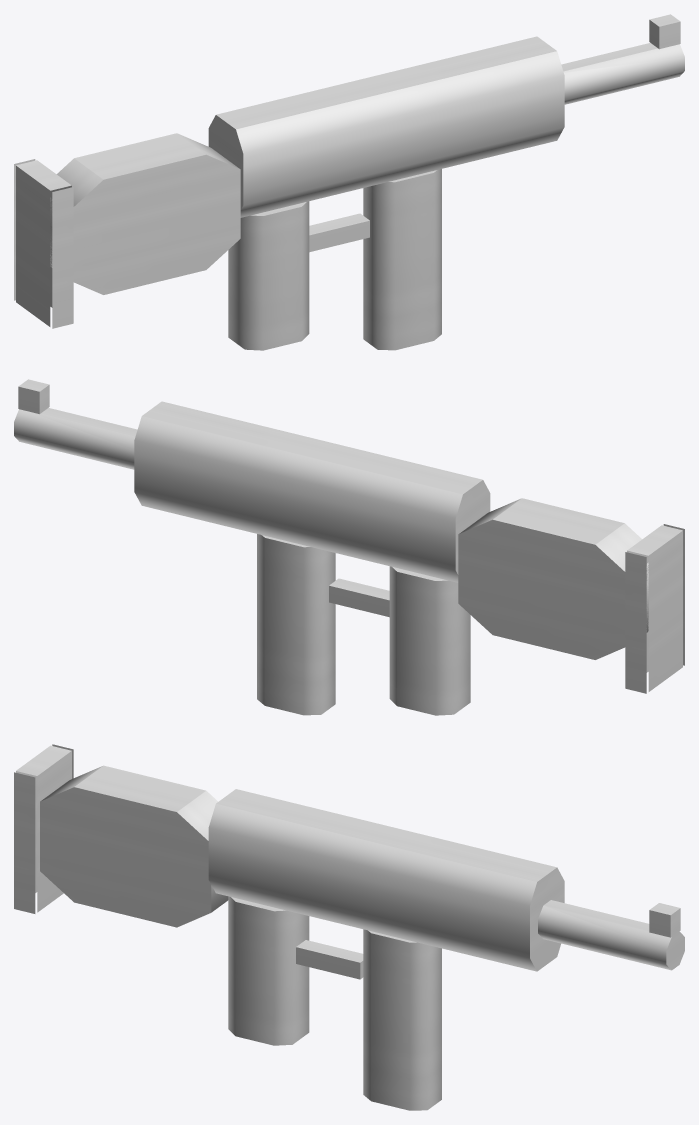
Rendered from smg.obj.
3 views of the same model, one above another, from view 1: azimuth 30°, elevation 25°; view 2: azimuth 150°, elevation 25°; view 3: azimuth 330°, elevation 25° (orthographic).
Parts seen in each view (by area): view 1: receiver, stock_or_grip, magazine_or_foregrip, grip_or_magazine, butt_or_trigger, barrel_muzzle, trigger_bridge, front_sight; view 2: receiver, stock_or_grip, magazine_or_foregrip, grip_or_magazine, butt_or_trigger, barrel_muzzle, trigger_bridge, front_sight; view 3: receiver, stock_or_grip, magazine_or_foregrip, grip_or_magazine, butt_or_trigger, barrel_muzzle, trigger_bridge, front_sight.
Part boxes in pixels (bbox=[...]): receiver: bbox=[208, 36, 564, 217]; stock_or_grip: bbox=[50, 133, 240, 294]; magazine_or_foregrip: bbox=[363, 169, 441, 350]; grip_or_magazine: bbox=[228, 201, 309, 350]; butt_or_trigger: bbox=[14, 159, 73, 328]; barrel_muzzle: bbox=[561, 43, 684, 104]; trigger_bridge: bbox=[309, 213, 369, 252]; front_sight: bbox=[649, 14, 680, 49]; receiver: bbox=[134, 401, 490, 582]; stock_or_grip: bbox=[458, 498, 648, 659]; magazine_or_foregrip: bbox=[257, 534, 335, 715]; grip_or_magazine: bbox=[389, 566, 470, 715]; butt_or_trigger: bbox=[625, 524, 684, 693]; barrel_muzzle: bbox=[14, 408, 137, 469]; trigger_bridge: bbox=[329, 578, 389, 617]; front_sight: bbox=[18, 379, 49, 414]; receiver: bbox=[208, 789, 564, 971]; stock_or_grip: bbox=[40, 765, 228, 927]; magazine_or_foregrip: bbox=[363, 929, 441, 1110]; grip_or_magazine: bbox=[228, 896, 309, 1045]; butt_or_trigger: bbox=[14, 744, 73, 913]; barrel_muzzle: bbox=[538, 900, 684, 970]; trigger_bridge: bbox=[296, 940, 363, 979]; front_sight: bbox=[649, 903, 680, 937].
Size of the model in its own units: 0.6 by 0.23 by 0.062.
